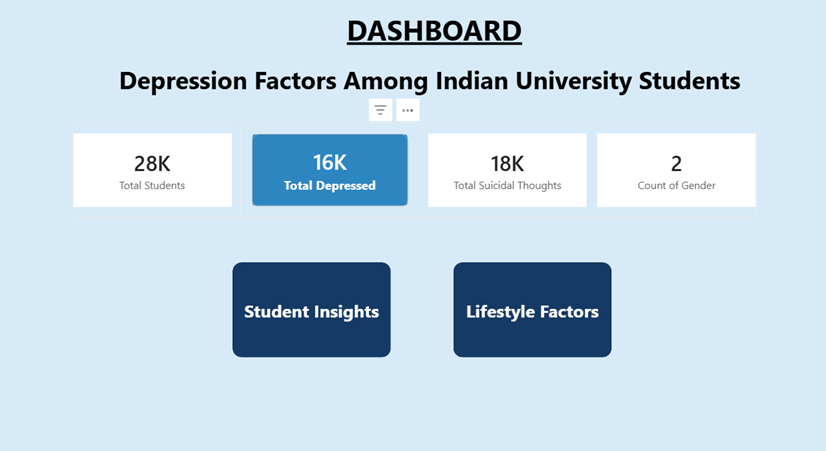

The dashboard page shown, as its layout file describes it:
{"tool":"powerbi","page":{"name":"Main Menu","canvas":[1280,720],"ordinal":0},"visuals":[{"type":"textbox","box":[531.4,18.6,287.1,80],"z":0},{"type":"textbox","box":[185.7,98.6,960,64.3],"z":1000},{"type":"actionButton","box":[698.6,405.7,240,144.3],"z":2000},{"type":"actionButton","box":[362.9,405.7,240,144.3],"z":3000},{"type":"cardVisual","fields":{"Data":["clean dataset.Total Suicidal Thoughts"]},"box":[660,209.8,240,111.4],"z":4000,"group":"g1"},{"type":"cardVisual","fields":{"Data":["Count(clean dataset.Gender)"]},"box":[915.7,209.8,241.4,111.4],"z":5000,"group":"g1"},{"type":"cardVisual","fields":{"Data":["clean dataset.Total_Students"]},"box":[121.4,209.8,241.4,111.4],"z":6000,"group":"g1"},{"type":"cardVisual","fields":{"Data":["clean dataset.Total Depressed"]},"box":[376.5,193.9,271.4,144.3],"z":7000,"group":"g1"},{"type":"group","id":"g1","title":"Group 1","box":[121.4,193.9,1035.7,144.3],"z":7001}]}

Visuals, with their boxes on the page's 1280x720 design canvas (x1, y1, x2, y2). These are canvas units, not pixel positions in the 826x451 screenshot, which may show the page scaled, cropped or inside an application window:
textbox: rect(531, 19, 818, 99)
textbox: rect(186, 99, 1146, 163)
actionButton: rect(699, 406, 939, 550)
actionButton: rect(363, 406, 603, 550)
cardVisual - clean dataset.Total Suicidal Thoughts: rect(660, 210, 900, 321)
cardVisual - Count(clean dataset.Gender): rect(916, 210, 1157, 321)
cardVisual - clean dataset.Total_Students: rect(121, 210, 363, 321)
cardVisual - clean dataset.Total Depressed: rect(376, 194, 648, 338)
"Group 1" group: rect(121, 194, 1157, 338)
